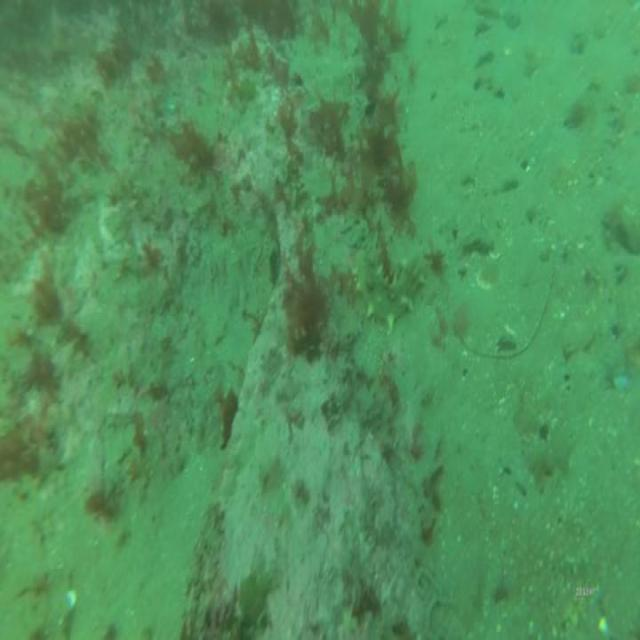holothurian: (351, 248, 425, 337)
